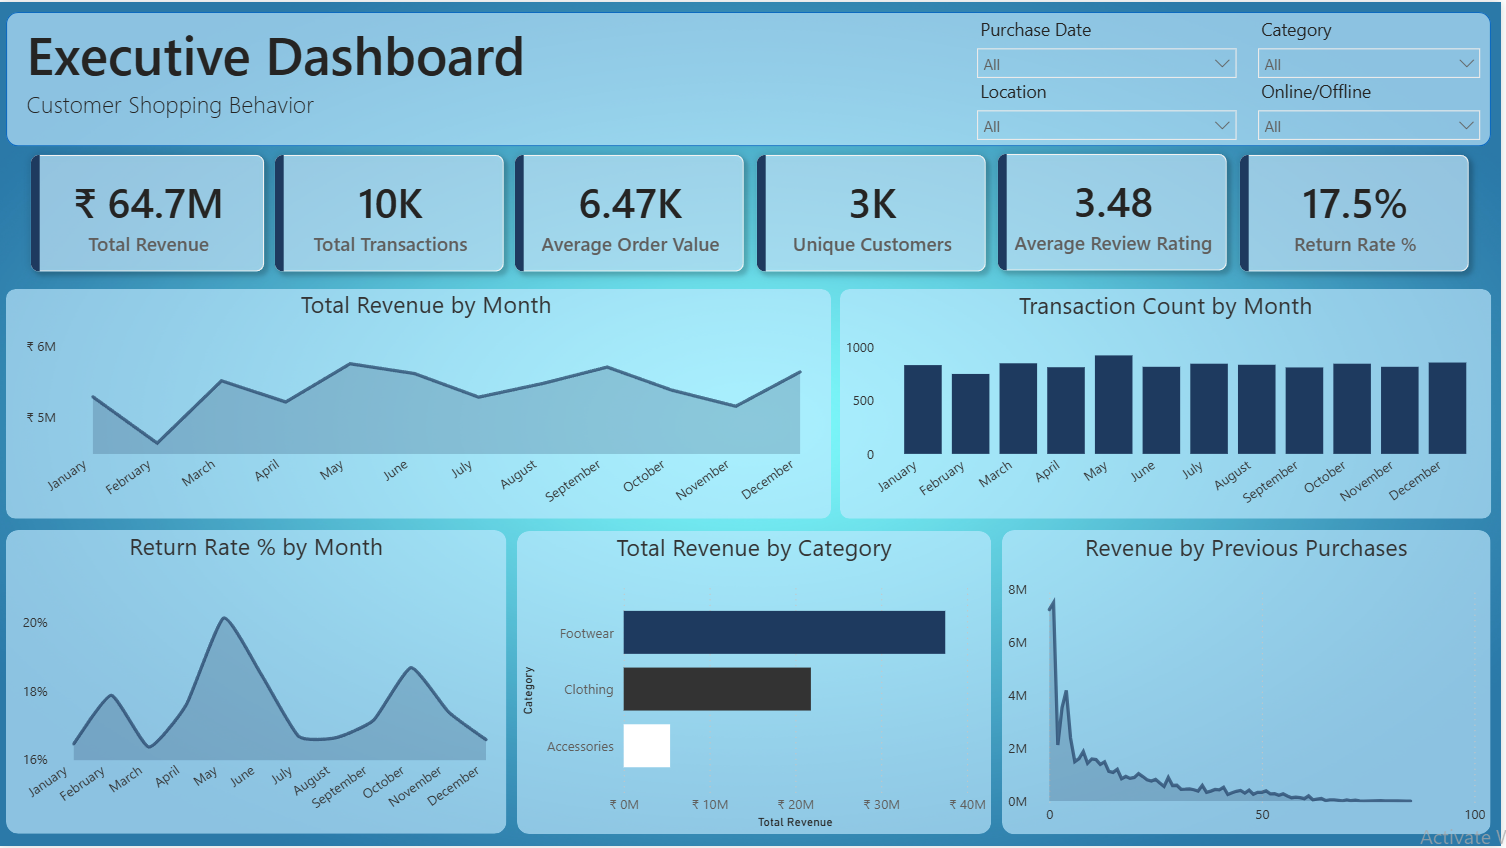

What the dashboard file says about the page in this screenshot:
{"tool":"powerbi","page":{"name":"Page 1","canvas":[1366,768],"ordinal":0},"visuals":[{"type":"shape","box":[6.7,8.9,1350,122.2],"z":0},{"type":"textbox","box":[20,8.9,580,122.2],"z":1000},{"type":"cardVisual","fields":{"Data":["Customer Shopping Behavior.Average Review Rating"]},"box":[879,109.5,266.4,164.4],"z":2000},{"type":"cardVisual","fields":{"Data":["Customer Shopping Behavior.Total Revenue"]},"box":[0,110,270,164.4],"z":3000},{"type":"cardVisual","fields":{"Data":["Customer Shopping Behavior.Total Transactions"]},"box":[221.7,110,266.4,164.4],"z":4000},{"type":"cardVisual","fields":{"Data":["Customer Shopping Behavior.Average Order Value"]},"box":[439.9,110,266.4,164.4],"z":5000},{"type":"cardVisual","fields":{"Data":["Customer Shopping Behavior.Unique Customers"]},"box":[660,110,266.4,164.4],"z":6000},{"type":"cardVisual","fields":{"Data":["Customer Shopping Behavior.Return Rate %"]},"box":[1099.1,110,266.4,164.4],"z":7000},{"type":"shape","box":[6.7,261.1,750,208.9],"z":8000},{"type":"lineChart","fields":{"Y":["Customer Shopping Behavior.Total Revenue"],"Category":["Calendar.Date.Variation.Date Hierarchy.Month"]},"box":[20,260,736.7,208.9],"z":9000},{"type":"shape","box":[764.4,261.1,592.2,208.9],"z":10000},{"type":"lineClusteredColumnComboChart","title":"Transaction Count by Month","fields":{"Category":["Calendar.Date.Variation.Date Hierarchy.Month"],"Y":["Customer Shopping Behavior.Total Transactions"]},"box":[764.4,261.1,592.2,208.9],"z":11000},{"type":"shape","box":[6.2,480,455,276.2],"z":12000},{"type":"lineChart","fields":{"Y":["Customer Shopping Behavior.Return Rate %"],"Category":["Calendar.Date.Variation.Date Hierarchy.Month"]},"box":[6.2,480,455,276.2],"z":13000},{"type":"shape","box":[912.2,480,444.4,276.7],"z":14000},{"type":"shape","box":[471.1,481.1,431.1,275.6],"z":14500},{"type":"areaChart","title":"Revenue by Previous Purchases","fields":{"Category":["Customer Shopping Behavior.Previous Purchases"],"Y":["Customer Shopping Behavior.Cumulative Revenue"]},"box":[912.2,481.1,444.4,275.6],"z":17000},{"type":"barChart","fields":{"Category":["Customer Shopping Behavior.Category"],"Y":["Customer Shopping Behavior.Total Revenue"]},"box":[471.1,481.1,431.1,275.6],"z":17500},{"type":"slicer","fields":{"Values":["Calendar.Date.Variation.Date Hierarchy.Year","Calendar.Date.Variation.Date Hierarchy.Month"]},"box":[878.9,8.9,255.6,61.1],"z":18004},{"type":"slicer","fields":{"Values":["Customer Shopping Behavior.Location"]},"box":[879,65,255.5,61],"z":18504},{"type":"slicer","fields":{"Values":["Customer Shopping Behavior.Online/Offline"]},"box":[1134.7,65.3,222,62],"z":19004},{"type":"slicer","fields":{"Values":["Customer Shopping Behavior.Category"]},"box":[1134.4,8.9,222.2,92.2],"z":19504}]}

Visuals, with their boxes in screenshot pixels (x1, y1, x2, y2), scaled from the page's 1366x768 canvas onto the 1506x848 screenshot:
shape: [7, 10, 1496, 145]
textbox: [22, 10, 661, 145]
cardVisual - Customer Shopping Behavior.Average Review Rating: [969, 121, 1263, 302]
cardVisual - Customer Shopping Behavior.Total Revenue: [0, 121, 298, 303]
cardVisual - Customer Shopping Behavior.Total Transactions: [244, 121, 538, 303]
cardVisual - Customer Shopping Behavior.Average Order Value: [485, 121, 779, 303]
cardVisual - Customer Shopping Behavior.Unique Customers: [728, 121, 1021, 303]
cardVisual - Customer Shopping Behavior.Return Rate %: [1212, 121, 1505, 303]
shape: [7, 288, 834, 519]
lineChart - Customer Shopping Behavior.Total Revenue x Calendar.Date.Variation.Date Hierarchy.Month: [22, 287, 834, 518]
shape: [843, 288, 1496, 519]
"Transaction Count by Month" lineClusteredColumnComboChart: [843, 288, 1496, 519]
shape: [7, 530, 508, 835]
lineChart - Customer Shopping Behavior.Return Rate % x Calendar.Date.Variation.Date Hierarchy.Month: [7, 530, 508, 835]
shape: [1006, 530, 1496, 836]
shape: [519, 531, 995, 836]
"Revenue by Previous Purchases" areaChart: [1006, 531, 1496, 836]
barChart - Customer Shopping Behavior.Category x Customer Shopping Behavior.Total Revenue: [519, 531, 995, 836]
slicer - Calendar.Date.Variation.Date Hierarchy.Year x Calendar.Date.Variation.Date Hierarchy.Month: [969, 10, 1251, 77]
slicer - Customer Shopping Behavior.Location: [969, 72, 1251, 139]
slicer - Customer Shopping Behavior.Online/Offline: [1251, 72, 1496, 141]
slicer - Customer Shopping Behavior.Category: [1251, 10, 1496, 112]
